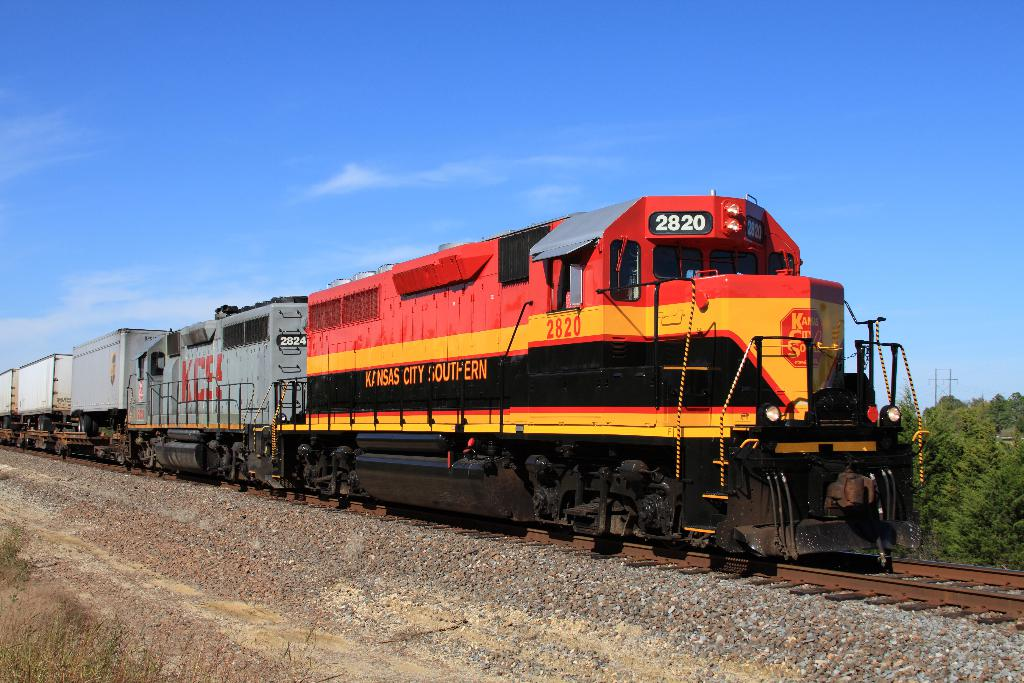Tree: (893, 379, 1023, 569)
